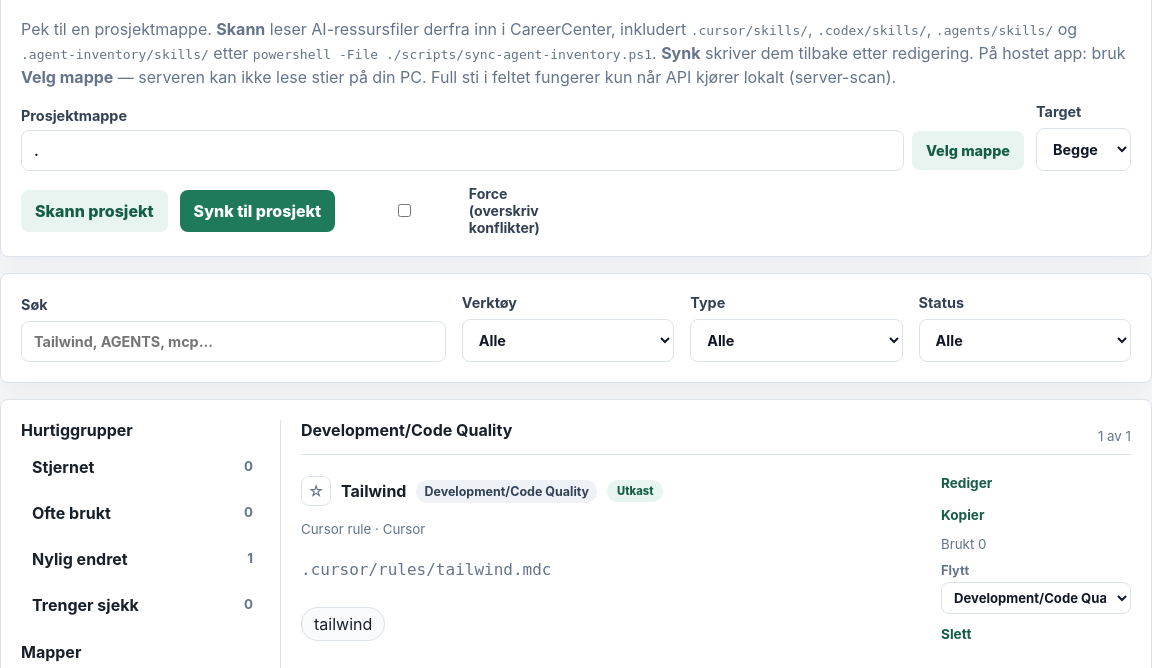
EducationAiResourcesView › opens the edit form when clicking edit on a resource card
Click the button with test id "edit-resource" at point(1036, 483), box [941,471,1131,495]
(page scrolled)
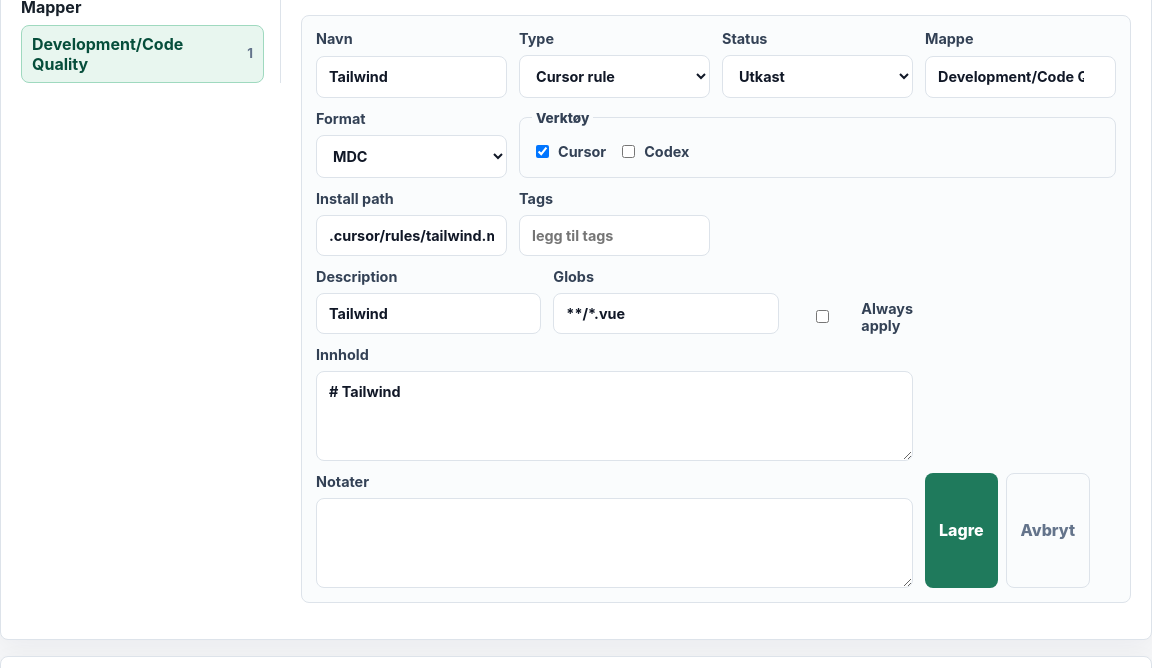
Expected: the form with test id "edit-resource-form" is shown
